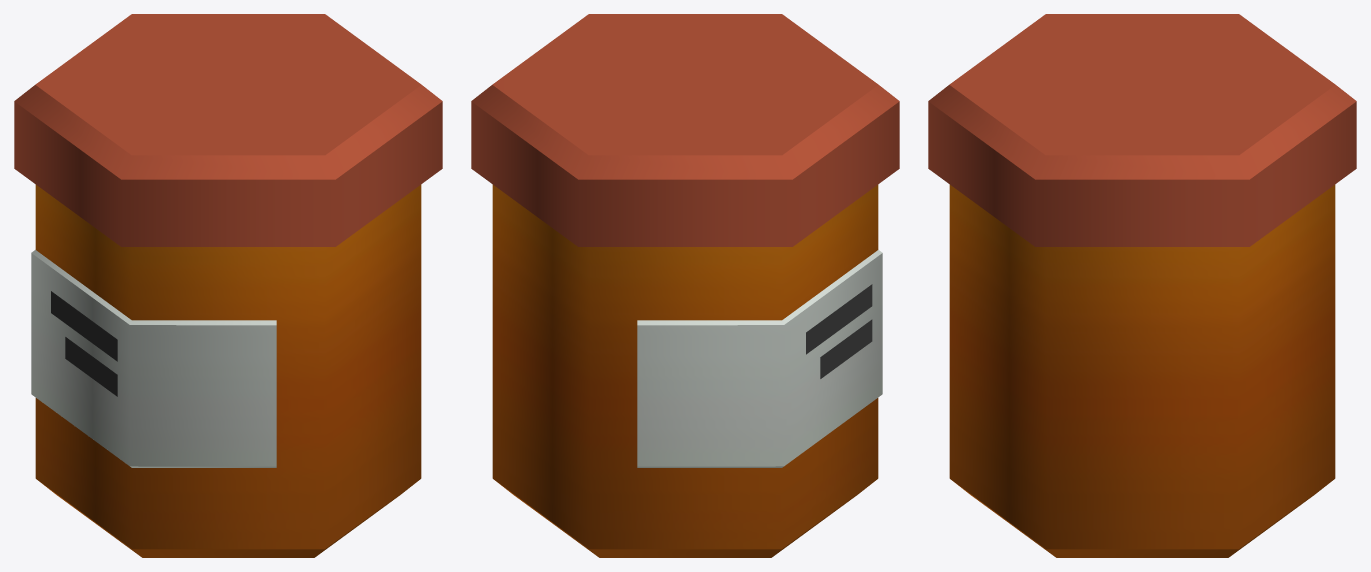
File: Jar_1_D.fbx
The picture shows the model from 3 angles, left to right: view 1: azimuth 30°, elevation 25°; view 2: azimuth 150°, elevation 25°; view 3: azimuth 270°, elevation 25°; orthographic projection.
Visible parts, largest first — view 1: Jar_1_D; view 2: Jar_1_D; view 3: Jar_1_D.
Boxes of the visible parts, x1,y1,x2,y2 form: Jar_1_D: (14, 14, 442, 557); Jar_1_D: (471, 14, 899, 557); Jar_1_D: (928, 14, 1356, 557).
Bounding box in the file's own units: 17.99 × 21.94 × 20.77.
